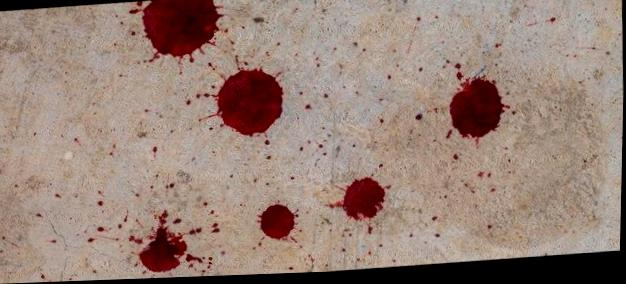Fire: (127, 0, 223, 64), (208, 69, 284, 140), (448, 80, 510, 148), (137, 213, 187, 274), (334, 179, 392, 225), (257, 206, 295, 243)
